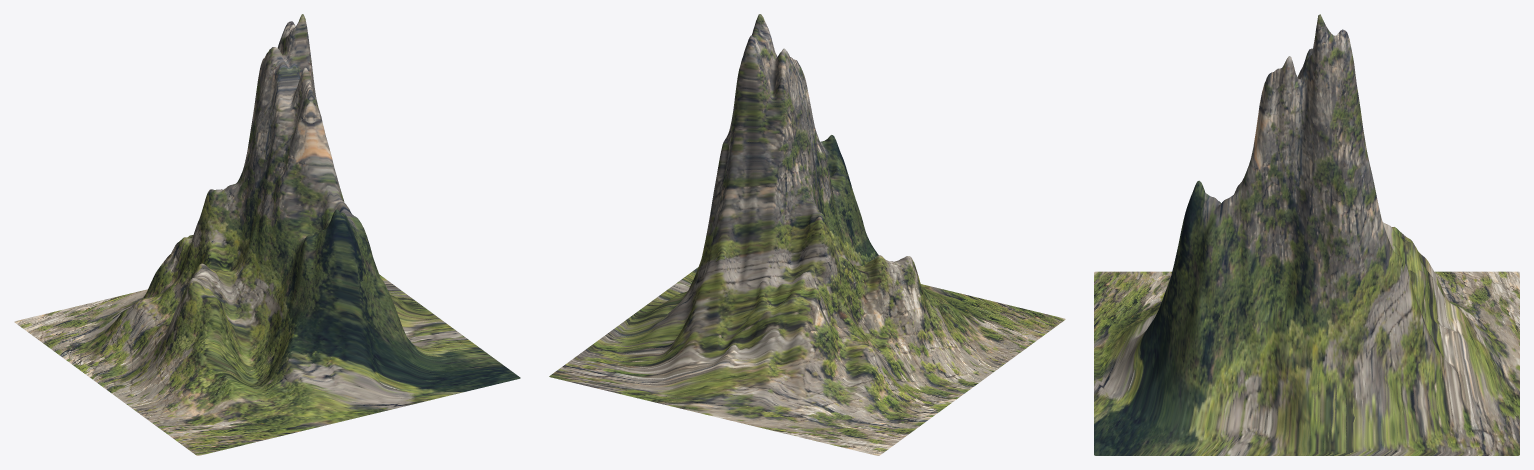
Rendered from UWMountain.dae.
3 views of the same model, side by side, from view 1: azimuth 30°, elevation 25°; view 2: azimuth 150°, elevation 25°; view 3: azimuth 270°, elevation 25° (orthographic). The views are drawn at different scales.
Parts seen in each view (by area): view 1: Landscape; view 2: Landscape; view 3: Landscape.
Part boxes in pixels (x1,y1,x2,y2): Landscape: (14,14,520,455); Landscape: (549,14,1065,455); Landscape: (1094,14,1519,455).
Bounding box in the file's own units: 347 × 341 × 329.
Materials: 1 (1 with a texture image).
